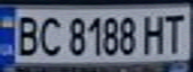1: (84, 14, 106, 56)
8: (118, 12, 142, 56), (63, 14, 87, 56), (103, 14, 121, 56)
B: (9, 11, 42, 57)
C: (36, 14, 63, 57)
H: (139, 11, 169, 55)
T: (160, 10, 190, 54)
